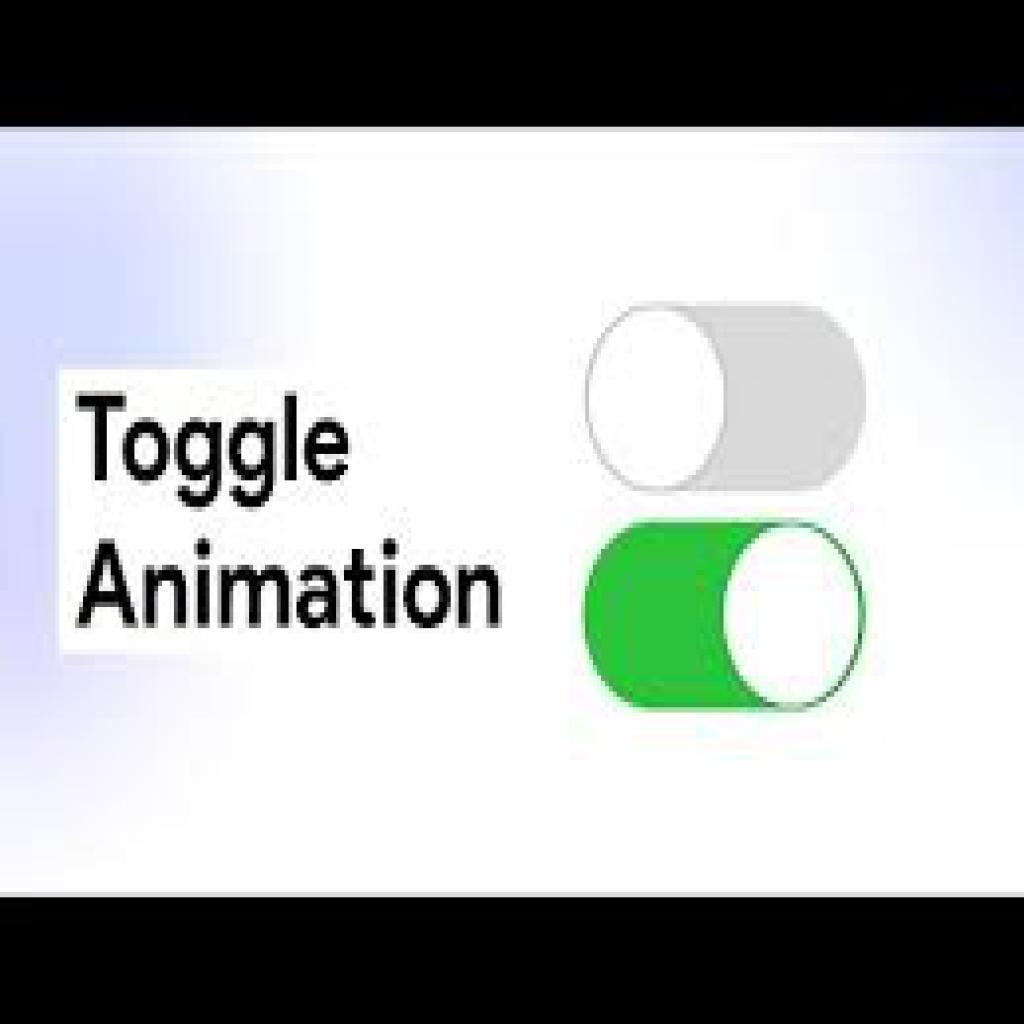switch: (579, 287, 867, 503), (578, 514, 866, 713)
